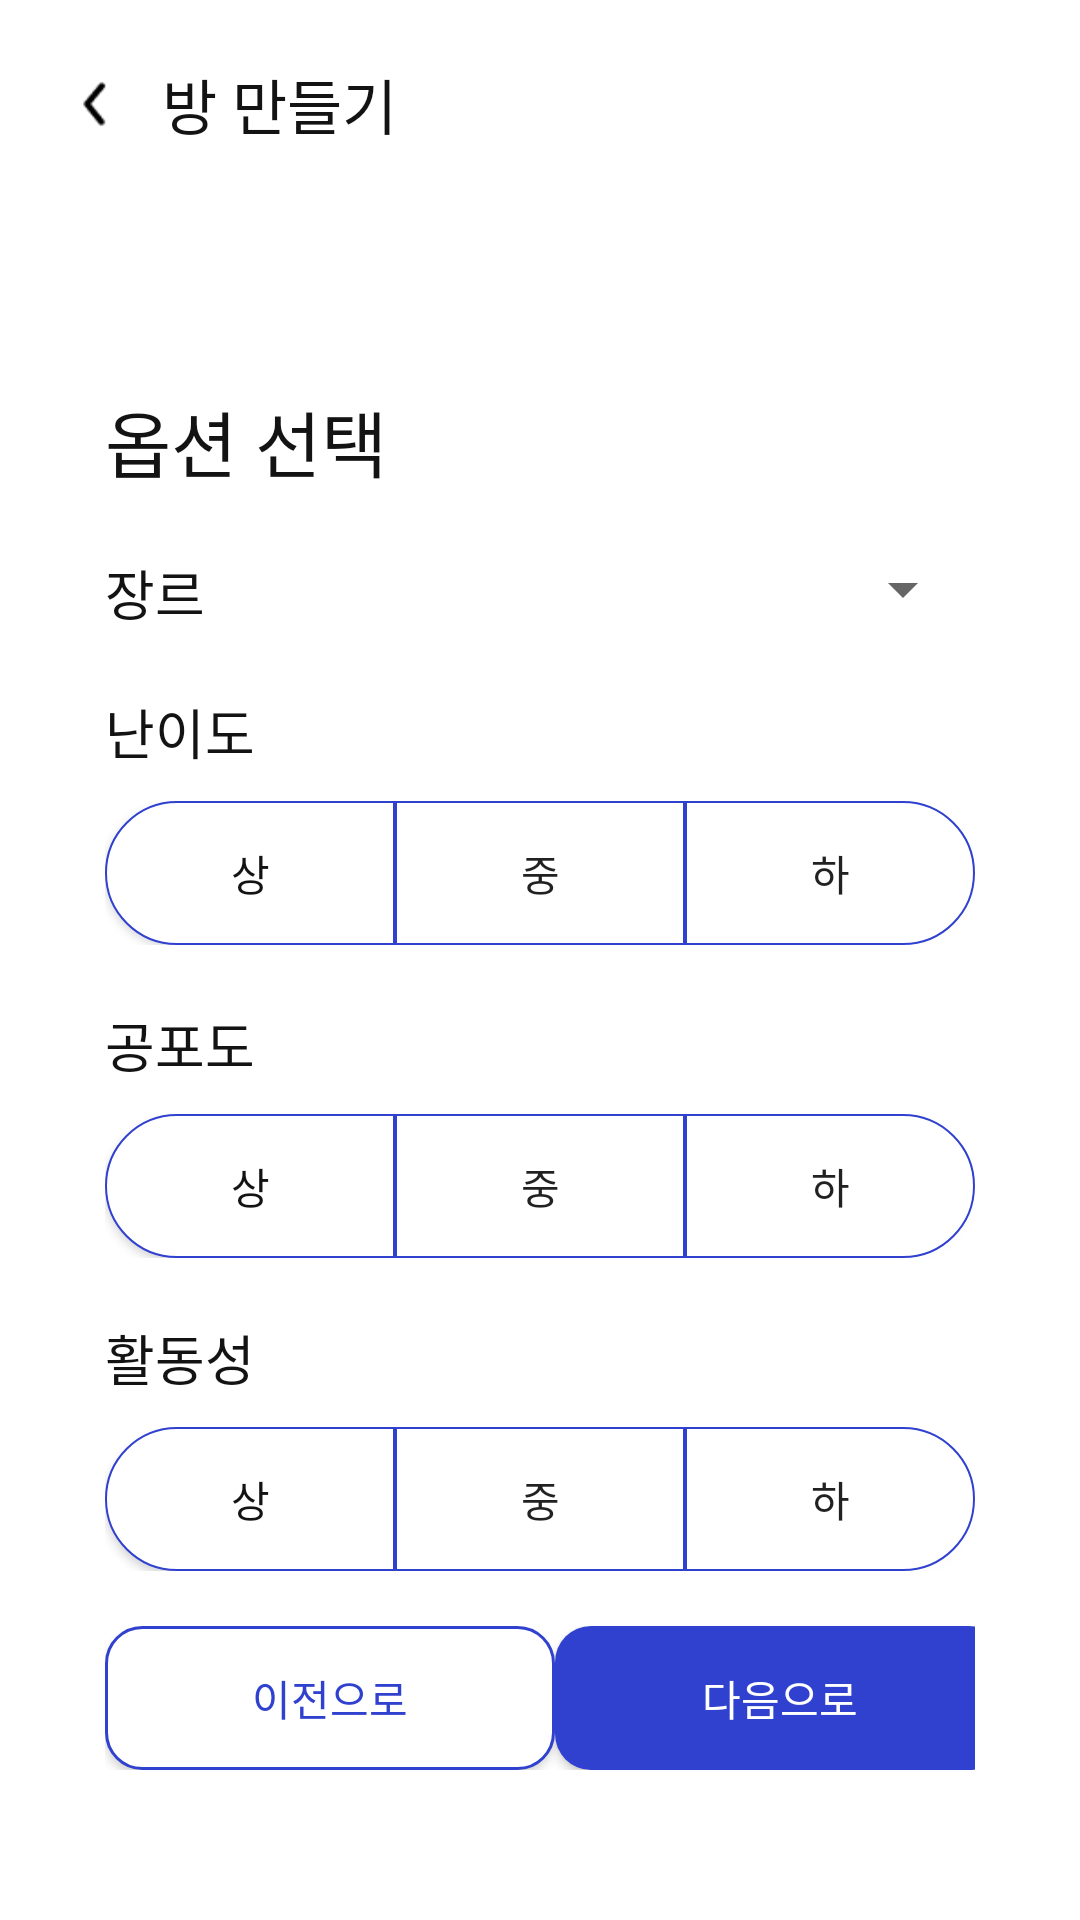

Named icons in this screenshot (1080 x 1920) and their bounding boxes, [left=x1, top=y1, right=x2, bottom=y2]:
arrow: [left=83, top=82, right=106, bottom=126]
